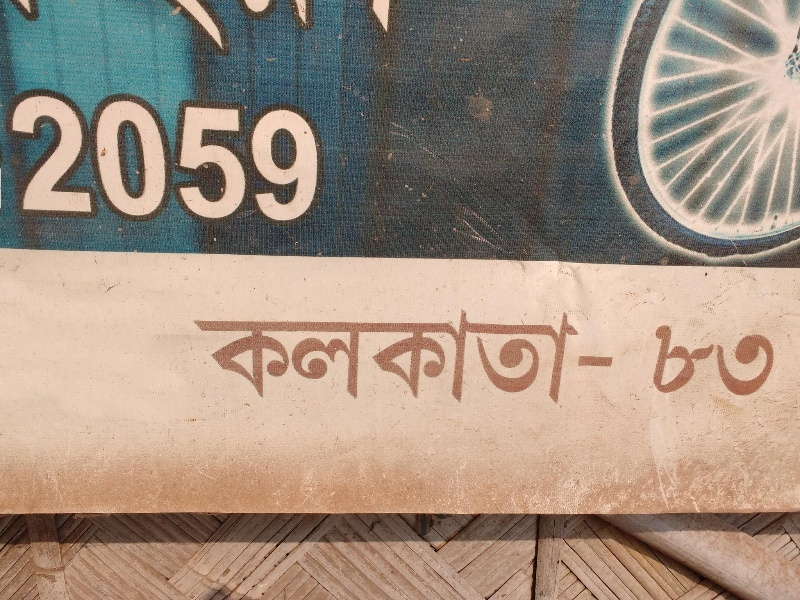text: (17, 87, 32, 228), (33, 87, 48, 228), (49, 87, 64, 228), (65, 87, 80, 228), (81, 87, 96, 228), (97, 87, 112, 228), (113, 87, 128, 228), (129, 87, 144, 228), (145, 87, 160, 228), (161, 87, 176, 228), (177, 87, 192, 228), (193, 87, 208, 228), (209, 87, 224, 228), (225, 87, 240, 228), (241, 87, 256, 228), (257, 87, 272, 228), (273, 87, 288, 228), (289, 87, 304, 228), (305, 87, 320, 228), (193, 295, 208, 415), (209, 295, 224, 415), (225, 295, 240, 415), (241, 295, 256, 415), (257, 295, 272, 415), (273, 295, 288, 415), (289, 295, 304, 415), (305, 295, 320, 415), (321, 295, 336, 415), (337, 295, 352, 415), (353, 295, 368, 415), (369, 295, 384, 415), (385, 295, 400, 415), (401, 295, 416, 415), (417, 295, 432, 415), (433, 295, 448, 415), (449, 295, 464, 415), (465, 295, 480, 415), (481, 295, 496, 415), (497, 295, 512, 415), (513, 295, 528, 415), (529, 295, 544, 415), (545, 295, 560, 415), (561, 295, 576, 415), (577, 295, 592, 415), (593, 295, 608, 415), (609, 295, 624, 415), (180, 295, 192, 415), (769, 313, 785, 401), (641, 313, 656, 401), (657, 313, 672, 401), (673, 313, 688, 401), (689, 313, 704, 401), (705, 313, 720, 401), (721, 313, 736, 401), (737, 313, 752, 401), (753, 313, 768, 401), (8, 87, 16, 228), (321, 87, 328, 228), (17, 1, 32, 58), (33, 1, 48, 58), (49, 1, 64, 58), (65, 1, 80, 58), (81, 1, 96, 58), (97, 1, 112, 58), (113, 1, 128, 58), (129, 1, 144, 58), (145, 1, 160, 58), (161, 1, 176, 58), (177, 1, 192, 58), (193, 1, 208, 58), (209, 1, 224, 58), (225, 1, 240, 58), (241, 1, 256, 58), (257, 1, 272, 58), (273, 1, 288, 58), (289, 1, 304, 58), (305, 1, 320, 58), (321, 1, 336, 58), (337, 1, 352, 58), (353, 1, 368, 58), (369, 1, 384, 58), (385, 1, 400, 58), (401, 1, 415, 58), (8, 1, 16, 58), (625, 295, 626, 415)
